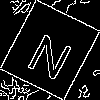N: (24, 25, 80, 82)
